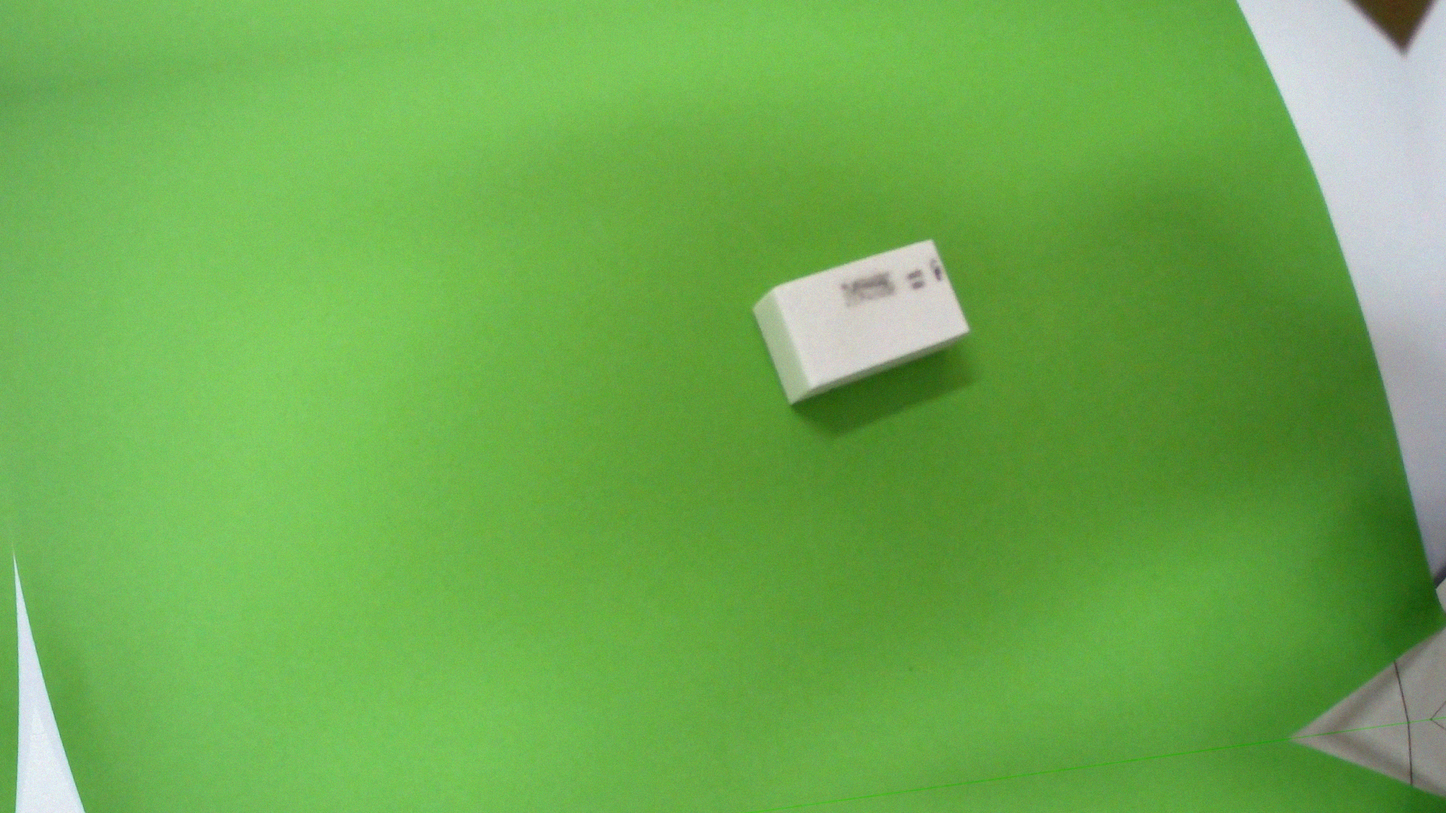gom: (747, 228, 975, 414)
